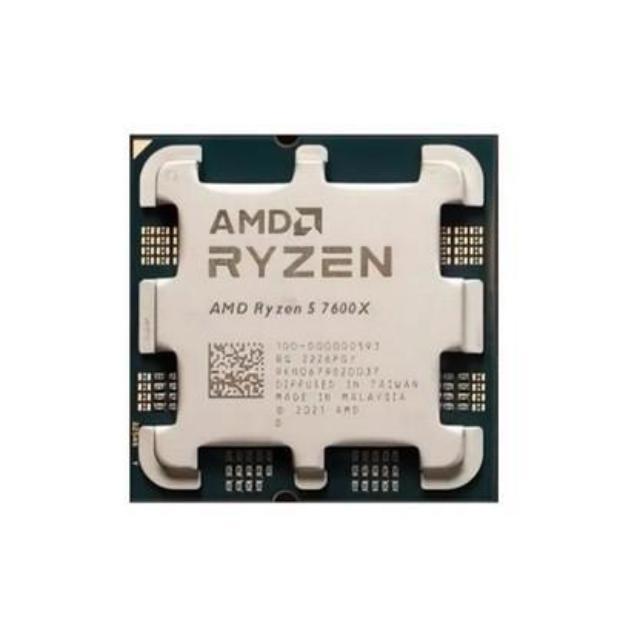CPU: (131, 136, 491, 507)
